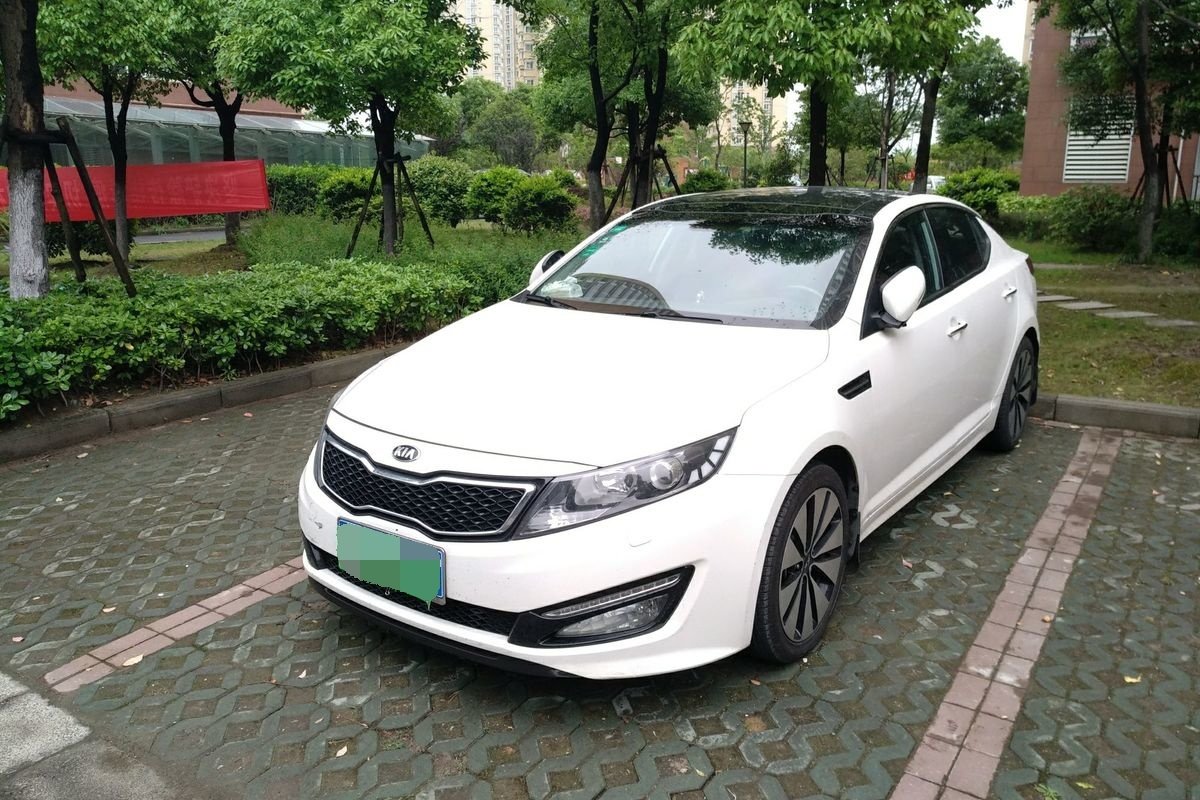family sedan: (301, 151, 1044, 665)
